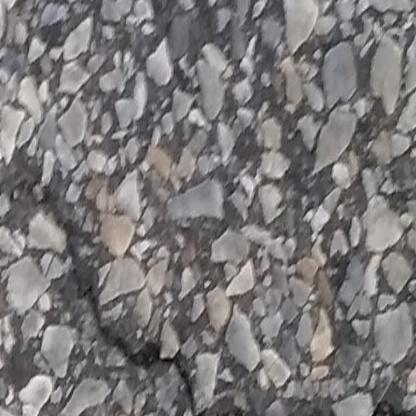Cracks: (0, 160, 265, 416), (361, 395, 416, 416), (279, 406, 356, 416)
